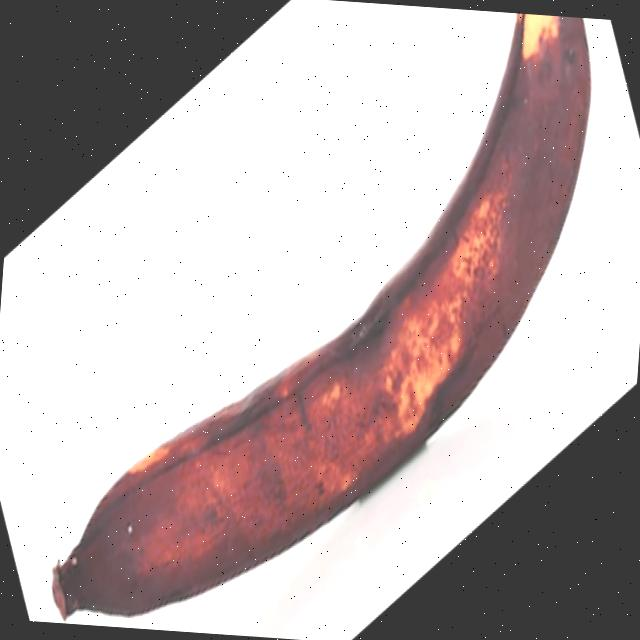Rotten: (41, 0, 605, 640)
